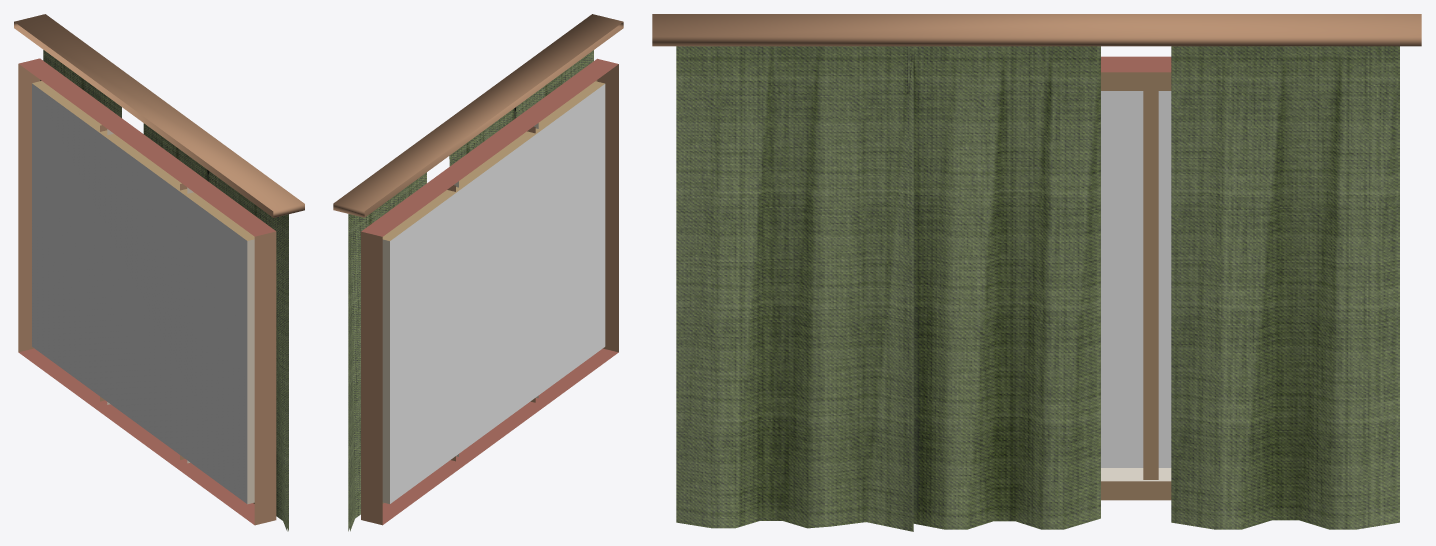
Rendered from M_chuang03.FBX.
3 views of the same model, side by side, from view 1: azimuth 30°, elevation 25°; view 2: azimuth 150°, elevation 25°; view 3: azimuth 270°, elevation 25° (orthographic). The views are drawn at different scales.
Parts seen in each view (by area): view 1: M_chuang03_02, M_chuang03_01, M_chuang03_03; view 2: M_chuang03_02, M_chuang03_01, M_chuang03_03; view 3: M_chuang03_03, M_chuang03_01, M_chuang03_02.
Boxes of the visible parts, box(x1,y1,x2,y2) form: M_chuang03_02: box(32, 83, 247, 503); M_chuang03_01: box(14, 14, 304, 525); M_chuang03_03: box(43, 50, 288, 531); M_chuang03_02: box(390, 84, 605, 503); M_chuang03_01: box(333, 14, 623, 525); M_chuang03_03: box(348, 50, 593, 531); M_chuang03_03: box(676, 46, 1399, 531); M_chuang03_01: box(652, 14, 1421, 500); M_chuang03_02: box(1101, 91, 1171, 467).
Size of the model in its own units: 0.471 by 3.45 by 4.89.
